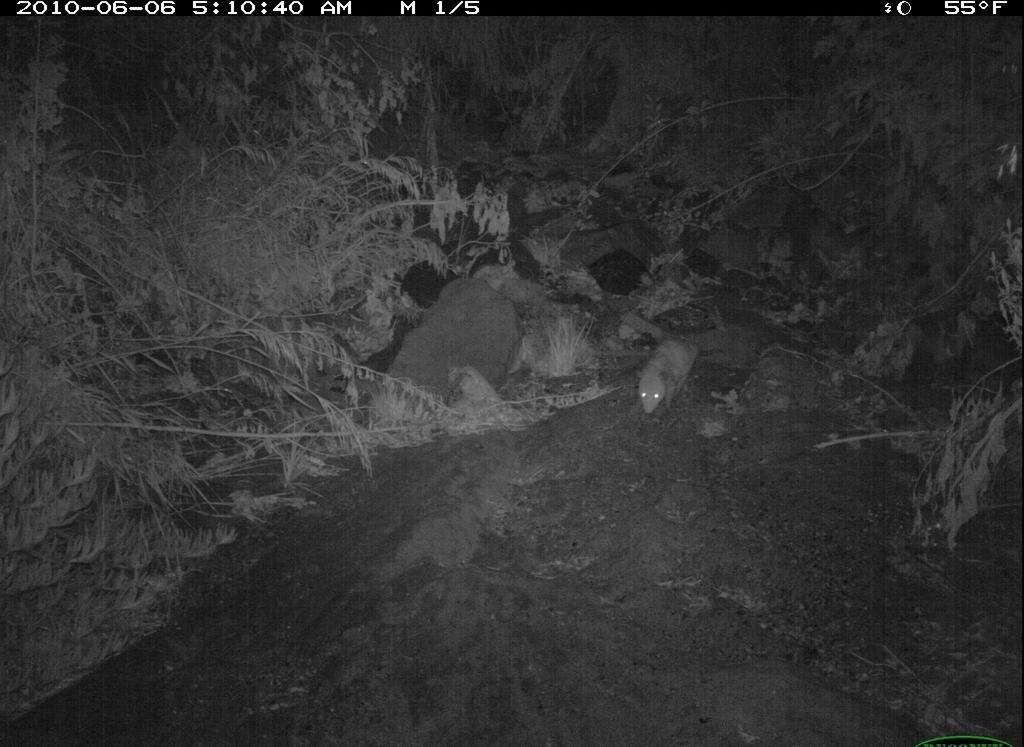opossum: (606, 304, 724, 442)
